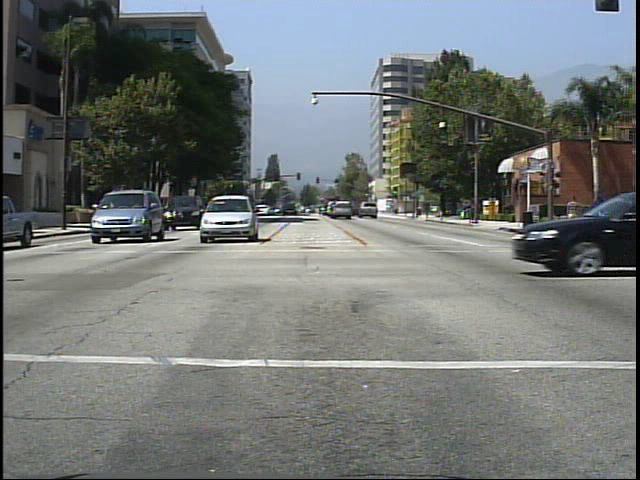person: (565, 192, 586, 223)
